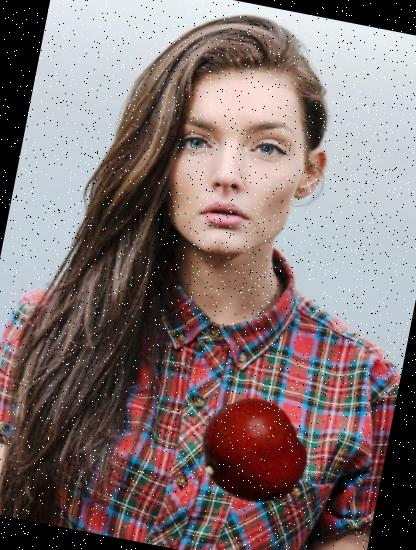Nectarine: (188, 389, 315, 516)
